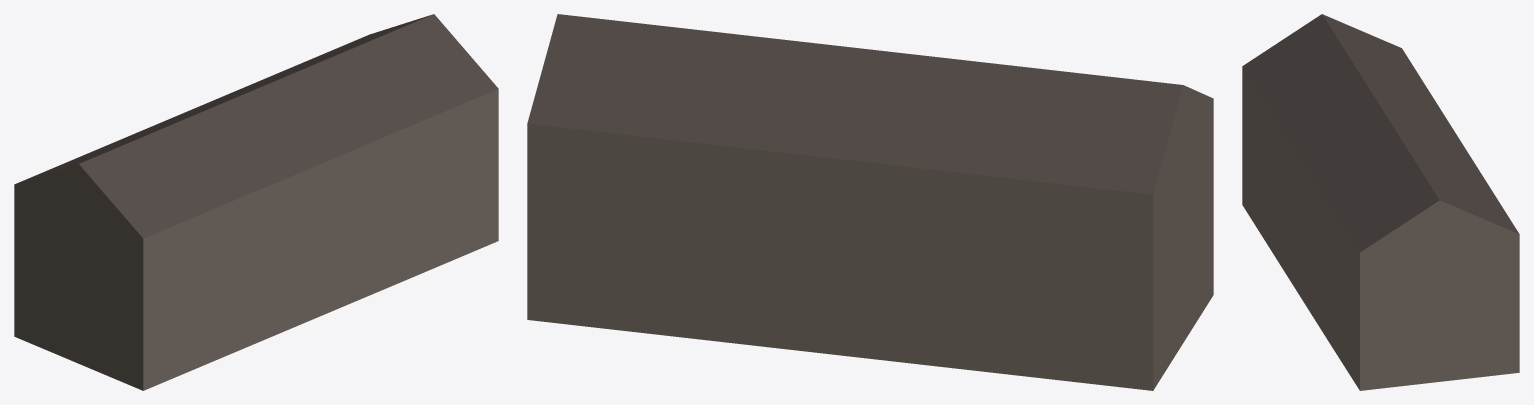
3 views of the same model, side by side, from view 1: azimuth 30°, elevation 25°; view 2: azimuth 150°, elevation 25°; view 3: azimuth 270°, elevation 25° (orthographic). The views are drawn at different scales.
Visible parts, largest first — view 1: HP-w1376988758; view 2: HP-w1376988758; view 3: HP-w1376988758.
Part boxes in pixels (left/top/right/bottom): HP-w1376988758: left=14, top=14, right=498, bottom=390; HP-w1376988758: left=527, top=14, right=1213, bottom=390; HP-w1376988758: left=1242, top=14, right=1519, bottom=390.
Size of the model in its own units: 19.04 by 7.88 by 10.92.
